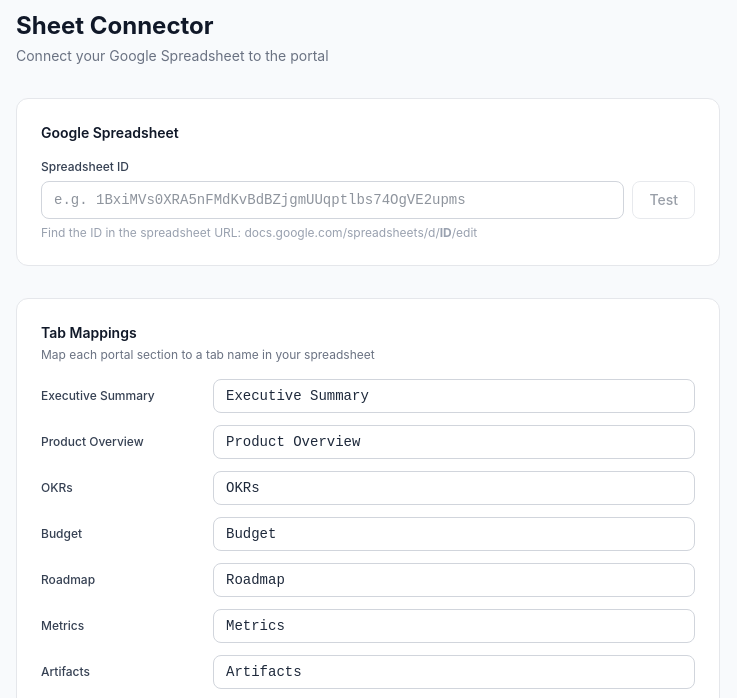
Test: SheetConnector › T-54.07: successful Test Connection shows tabs found
This screenshot has width=737, height=698.
In the field with placeholder "e.g. 1BxiMVs0XRA5nFMdKvBdBZjgmUUqptlbs74OgVE2upms": (333, 200) [41,181,624,219], type "abc123"
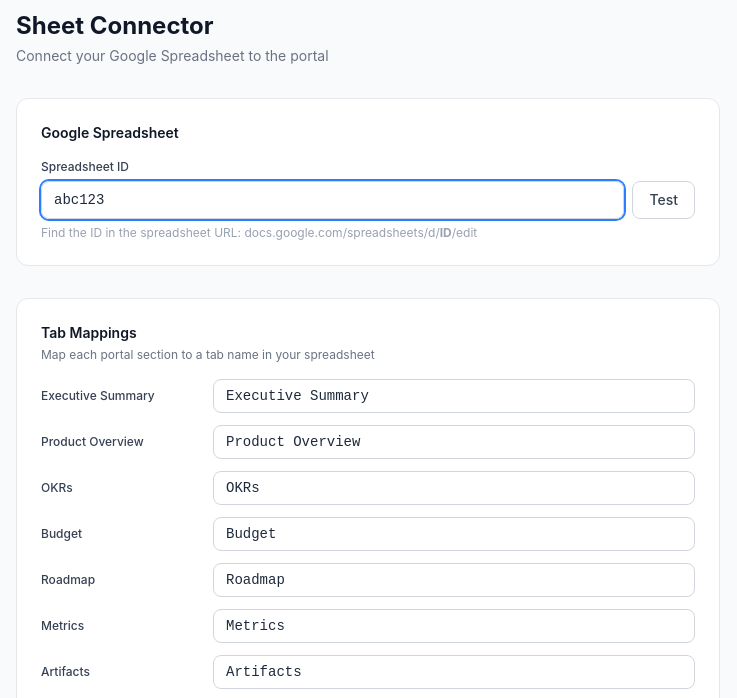
Click the button "Test": (664, 200) [632,181,695,219]
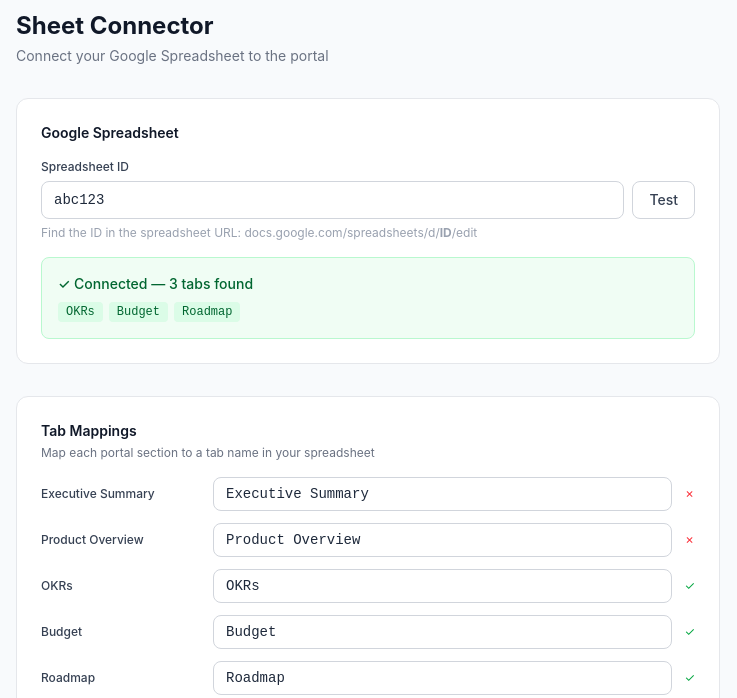
Now the text "✓ Connected — 3 tabs found" is shown, box [58,275,253,292]
Now the text "OKRs" is shown, box [58,302,103,322]
